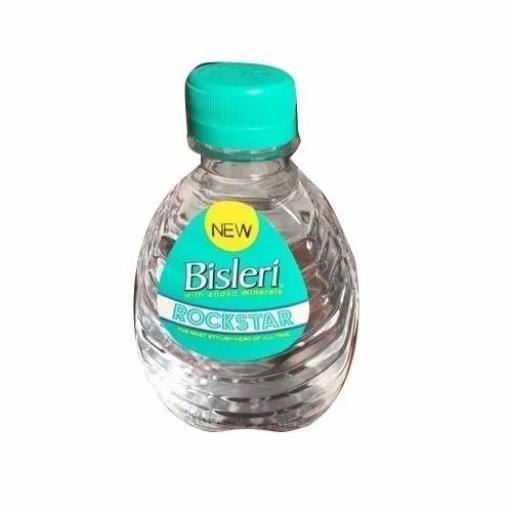bottle: (131, 56, 369, 438)
